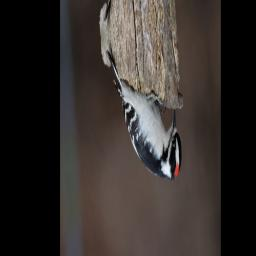Woodpecker: (105, 20, 185, 206)
